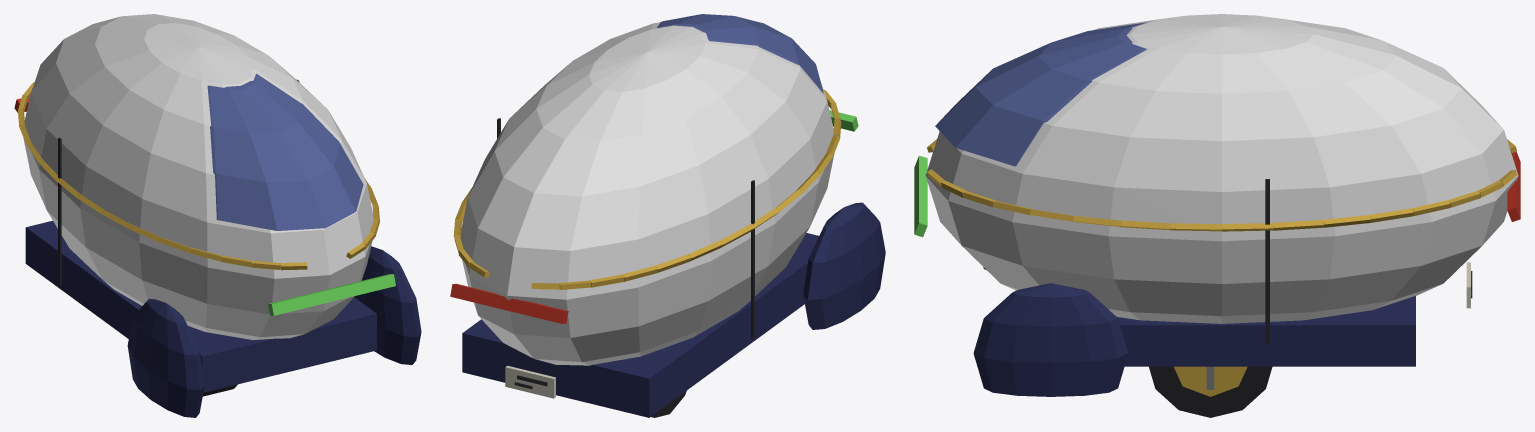
The model's file is ev_pod.glb.
3 views of the same model, side by side, from view 1: azimuth 30°, elevation 25°; view 2: azimuth 150°, elevation 25°; view 3: azimuth 270°, elevation 25° (orthographic). The views are drawn at different scales.
Parts seen in each view (by area): view 1: paint, body, lights; view 2: paint, body, lights; view 3: paint, body, wheel1, lights.
Part boxes in pixels (x1=…): paint: x1=23, y1=14, x2=373, y2=340; body: x1=18, y1=73, x2=421, y2=417; lights: x1=14, y1=98, x2=395, y2=315; paint: x1=460, y1=22, x2=834, y2=365; body: x1=453, y1=14, x2=885, y2=417; lights: x1=450, y1=110, x2=858, y2=323; paint: x1=925, y1=14, x2=1518, y2=323; body: x1=927, y1=22, x2=1516, y2=396; wheel1: x1=1149, y1=366, x2=1272, y2=417; lights: x1=914, y1=151, x2=1520, y2=237.
Bounding box in the file's own units: 1.44 × 1.85 × 2.66.
